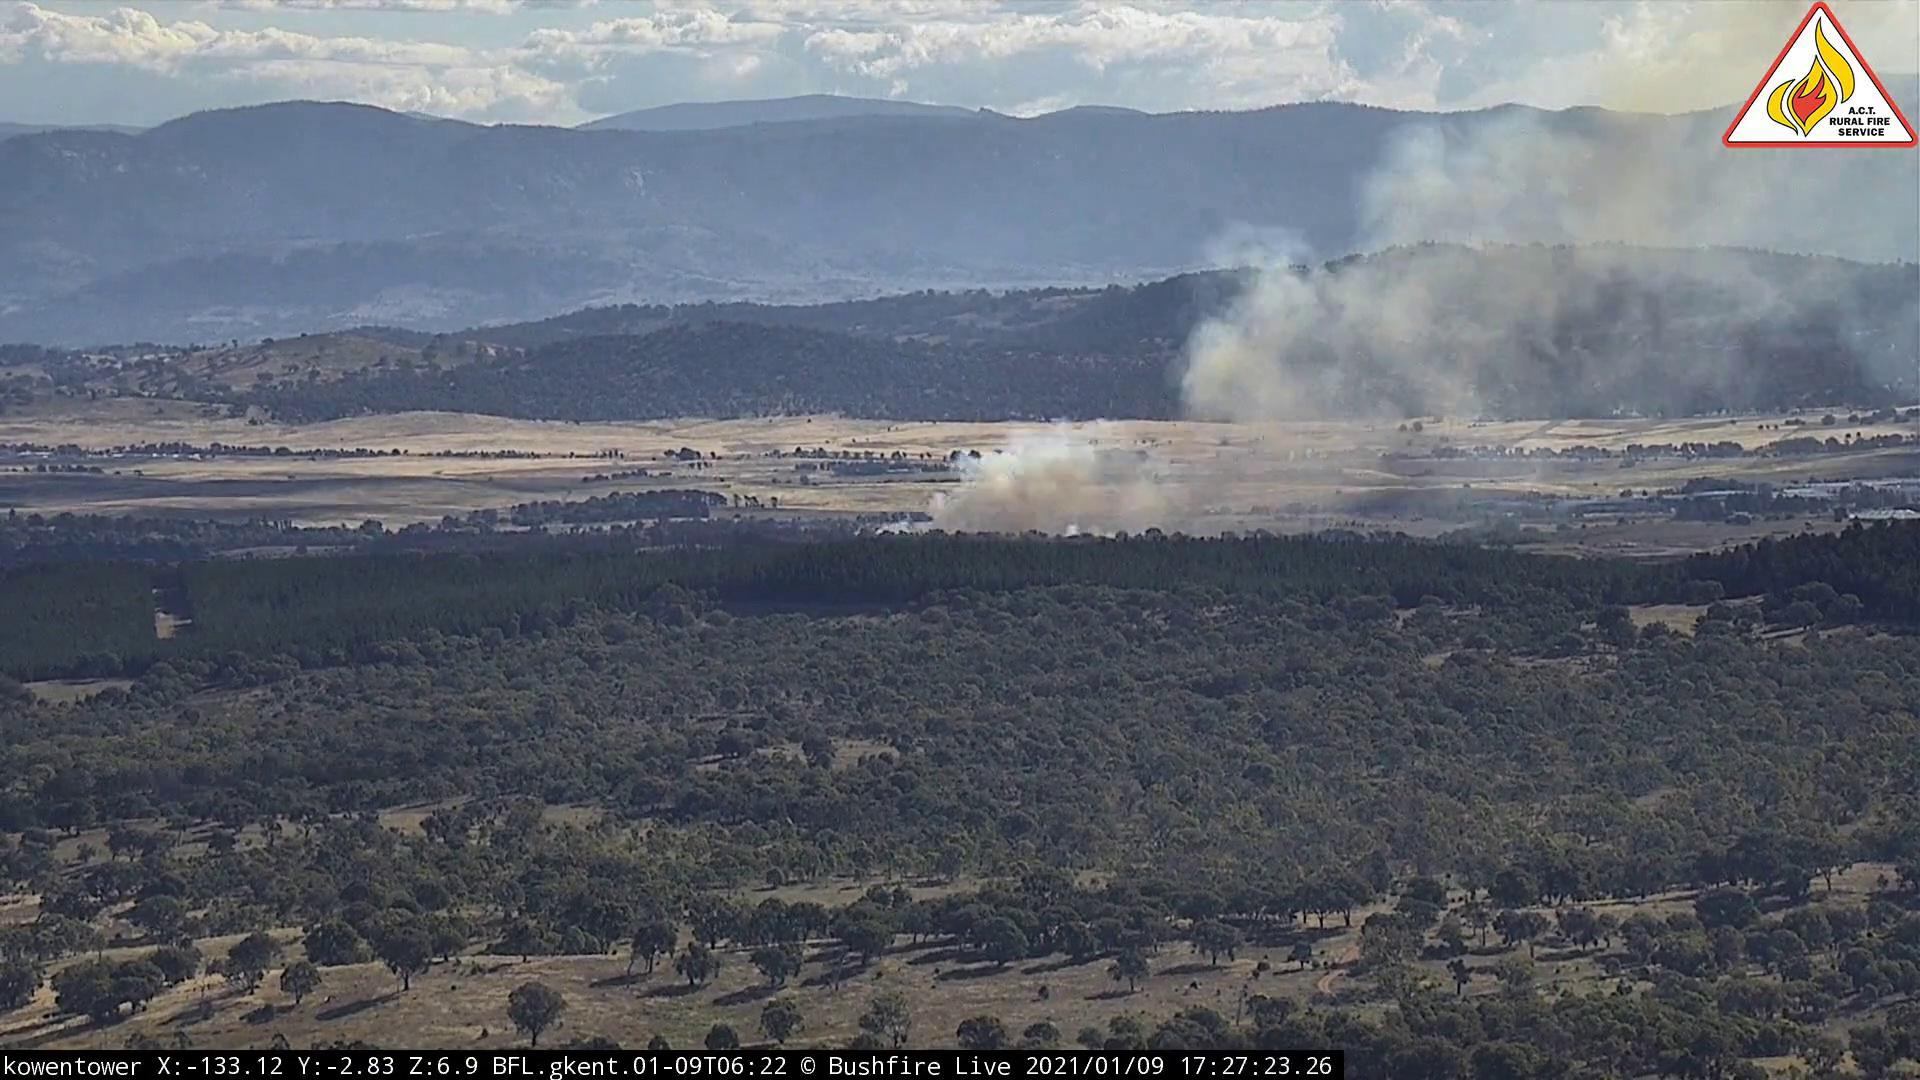instance_salient_object: (864, 156, 1920, 551)
